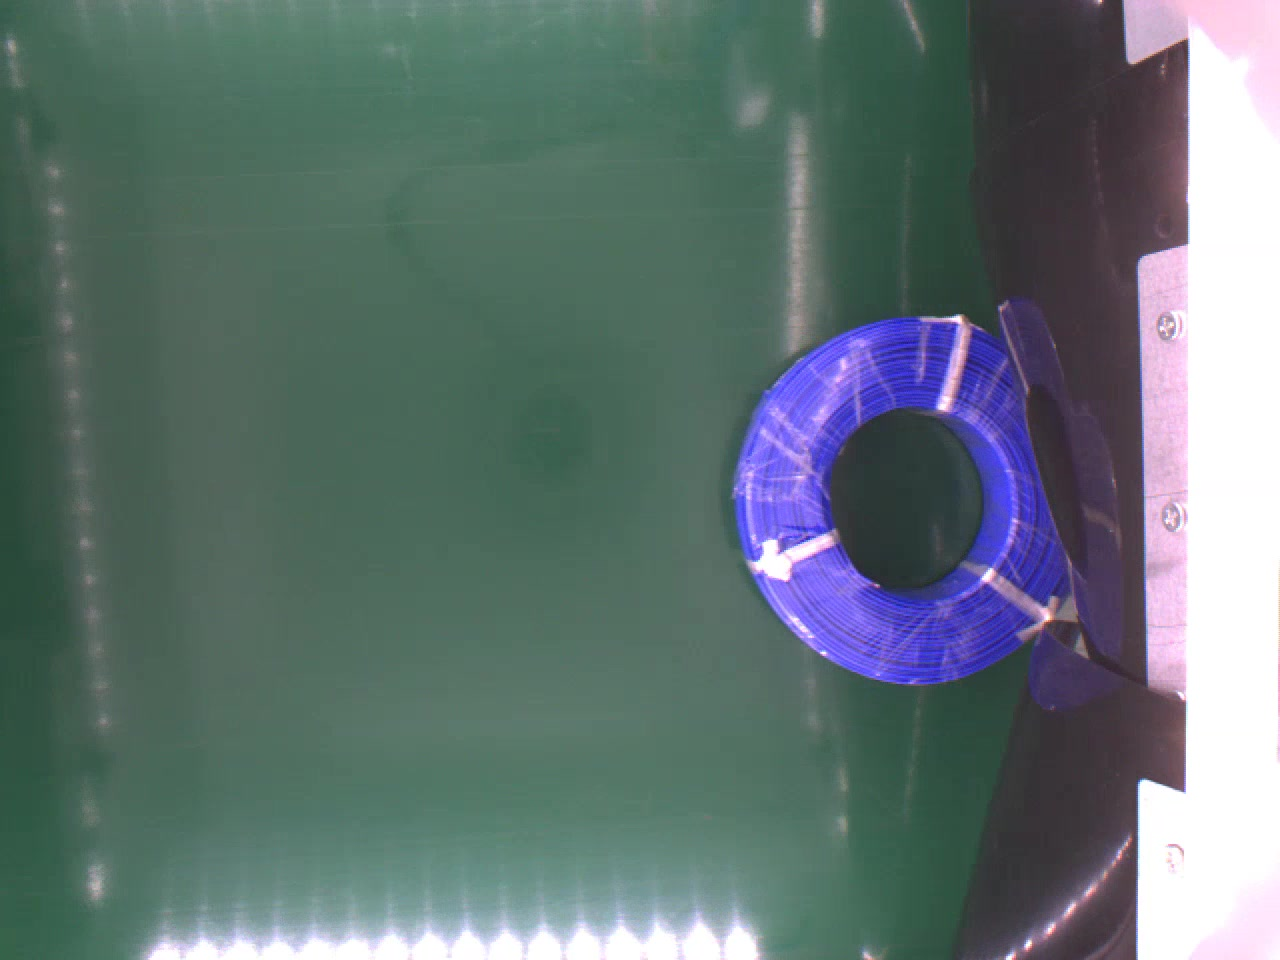blue: (728, 310, 1066, 682)
